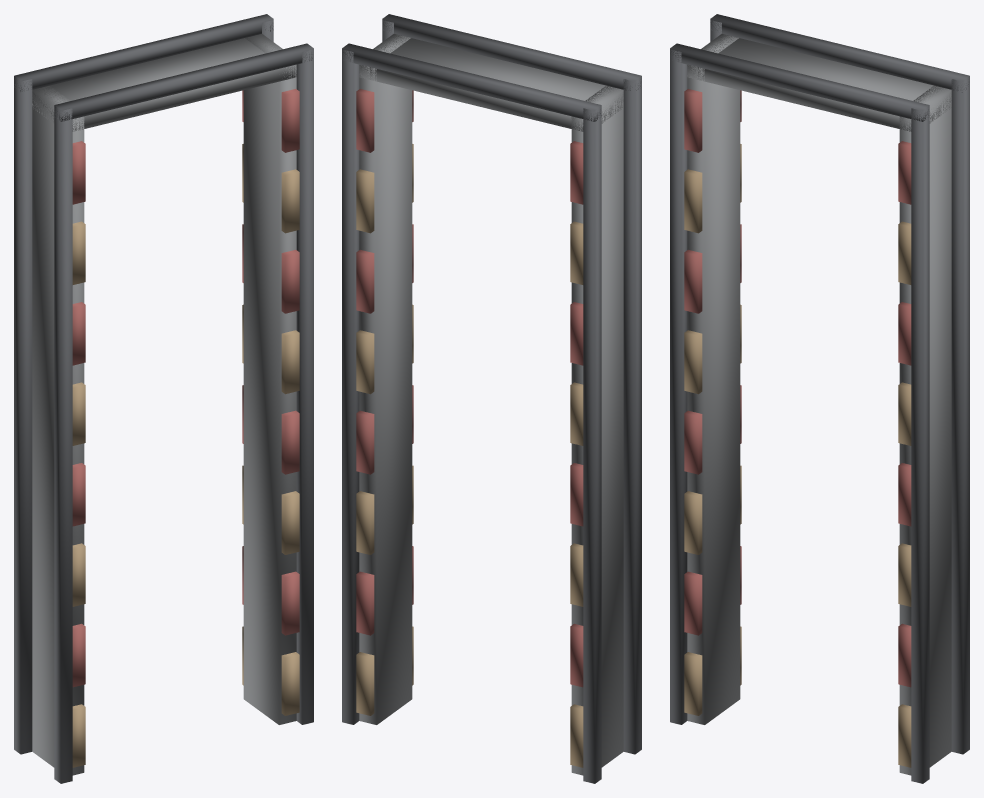
The model's file is doorway_brick_return_w76_h240_d24.glb.
3 views of the same model, side by side, from view 1: azimuth 30°, elevation 25°; view 2: azimuth 150°, elevation 25°; view 3: azimuth 330°, elevation 25° (orthographic).
Parts seen in each view (by area): view 1: world; view 2: world; view 3: world.
Boxes of the visible parts, x1,y1,x2,y2 form: world: [14, 14, 313, 783]; world: [342, 14, 641, 783]; world: [670, 14, 969, 783].
Bounding box in the file's own units: 0.9868 × 2.51 × 0.3165.
